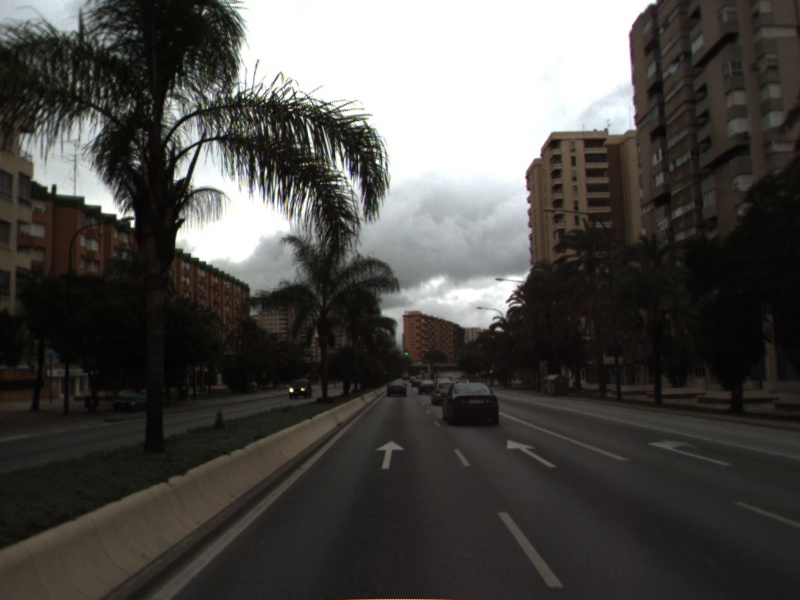RIGHT: (645, 435, 735, 468)
STRAIGHT: (505, 437, 559, 469), (373, 438, 407, 472)
